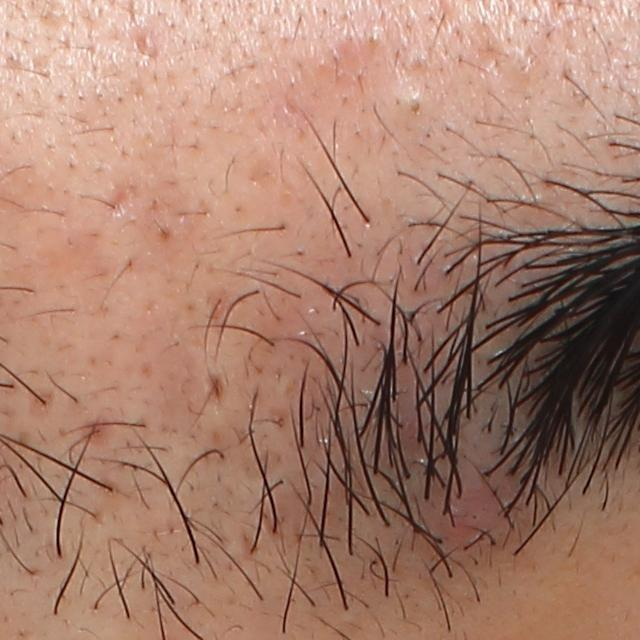atrophic_scar: (107, 182, 136, 220), (131, 29, 164, 60)
comedo: (395, 76, 446, 119)
